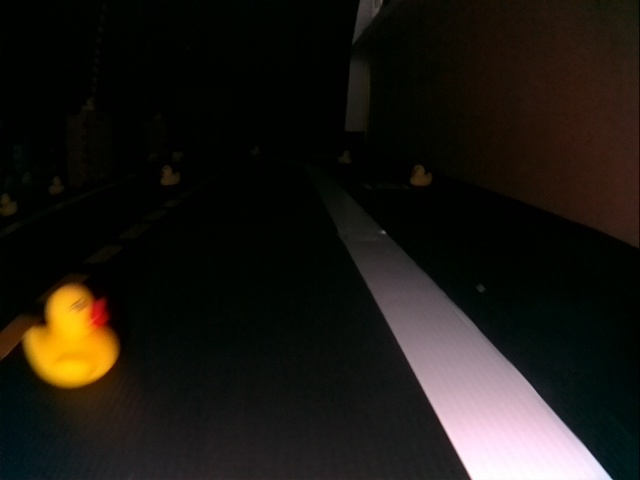Duckie: (28, 286, 120, 386), (411, 164, 433, 187), (162, 165, 178, 185), (49, 177, 63, 195)
